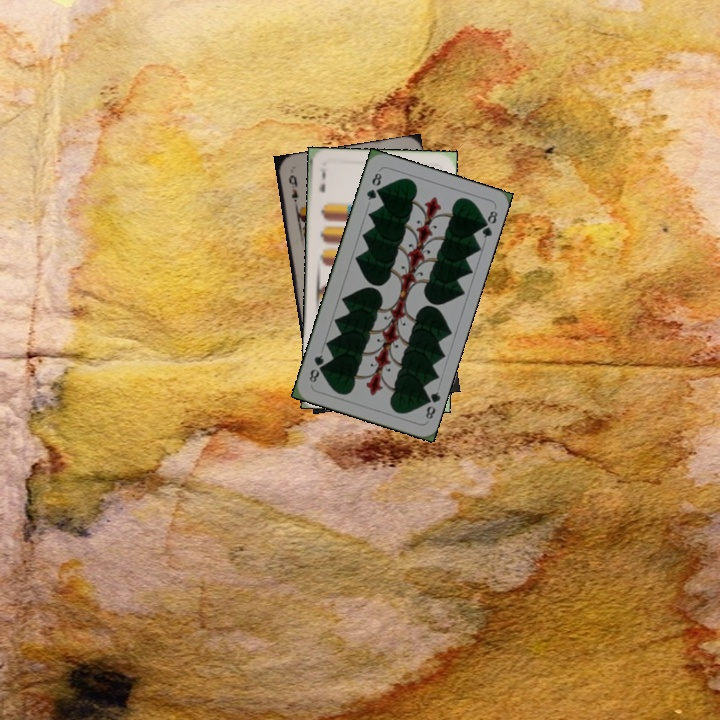E7: (315, 163, 328, 195)
E9: (285, 171, 300, 209)
G8: (419, 388, 443, 422), (362, 168, 384, 203)
